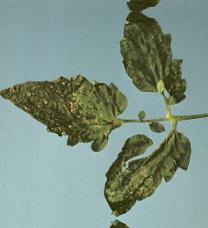Tomato Septoria leaf spot: (0, 69, 132, 159), (102, 122, 198, 217), (112, 11, 195, 112)
